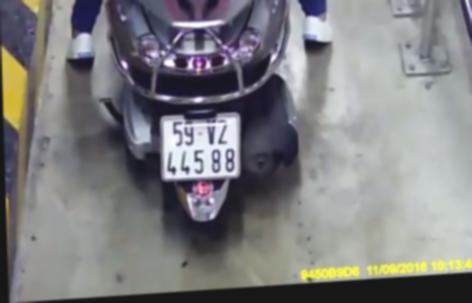License_Plate: (149, 107, 246, 190)
